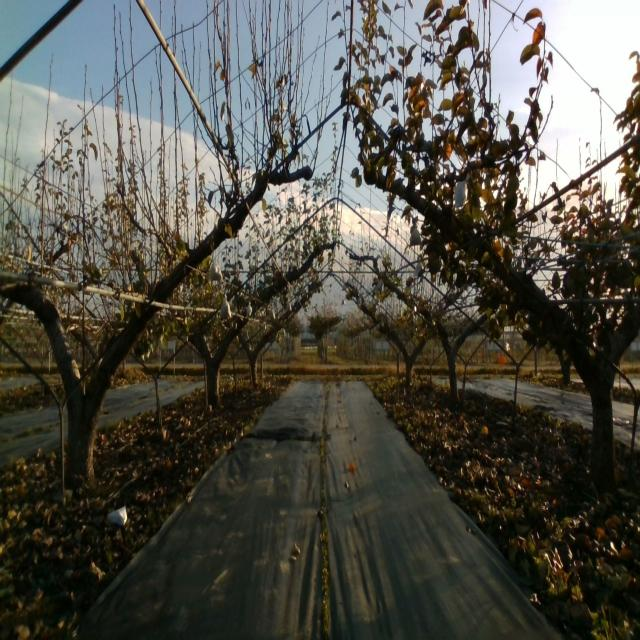pearbags: (209, 254, 223, 282), (454, 178, 467, 206), (220, 291, 232, 321), (409, 223, 422, 247)
